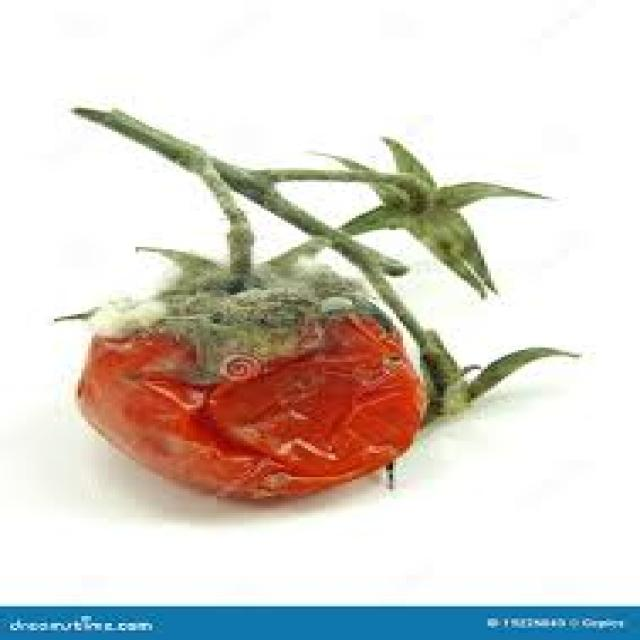overripe tomato: (76, 261, 449, 493)
